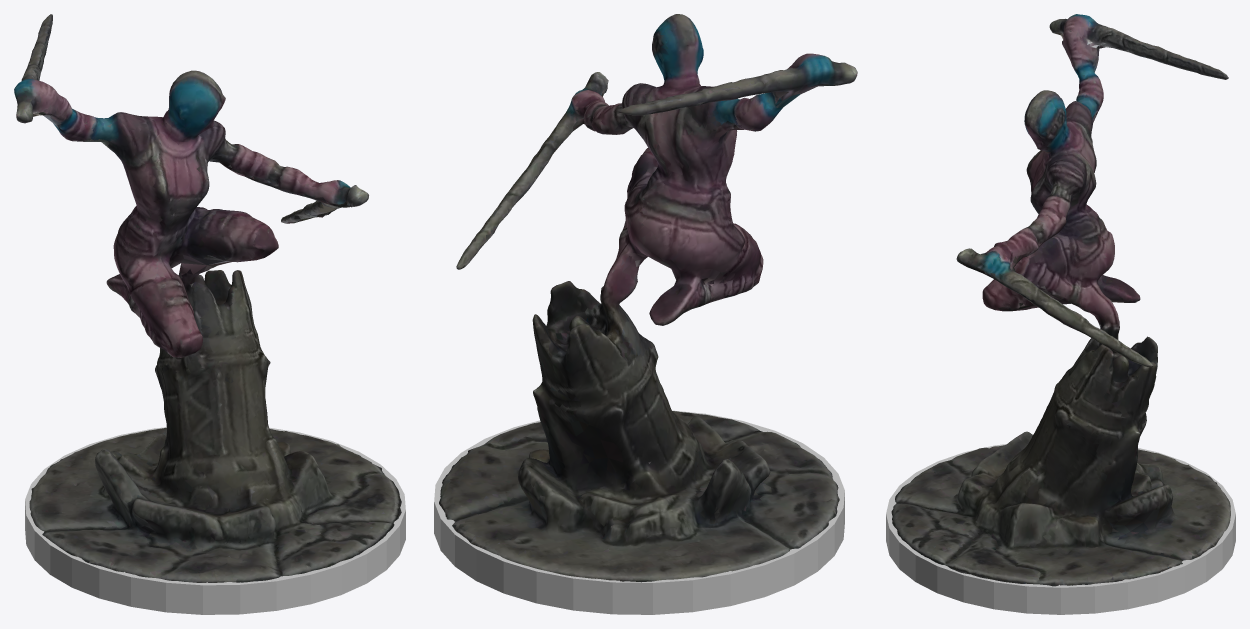
3 views of the same model, side by side, from view 1: azimuth 30°, elevation 25°; view 2: azimuth 150°, elevation 25°; view 3: azimuth 270°, elevation 25° (orthographic). The views are drawn at different scales.
Visible parts, largest first — view 1: Nebula, default; view 2: Nebula, default; view 3: Nebula, default.
Boxes of the visible parts, left/top/right/bottom form: Nebula: left=14, top=14, right=401, bottom=582; default: left=25, top=427, right=405, bottom=614; Nebula: left=439, top=14, right=857, bottom=582; default: left=434, top=410, right=844, bottom=614; Nebula: left=891, top=14, right=1230, bottom=586; default: left=886, top=444, right=1235, bottom=614.
Size of the model in its own units: 1.52 by 1.94 by 1.38.
2 materials, 1 textured.
